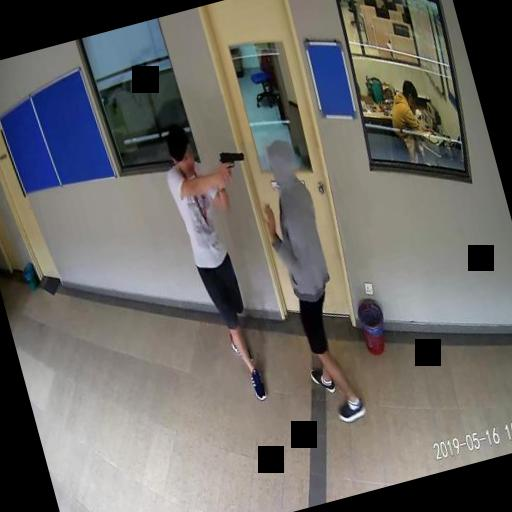Handgun: (216, 144, 248, 180)
